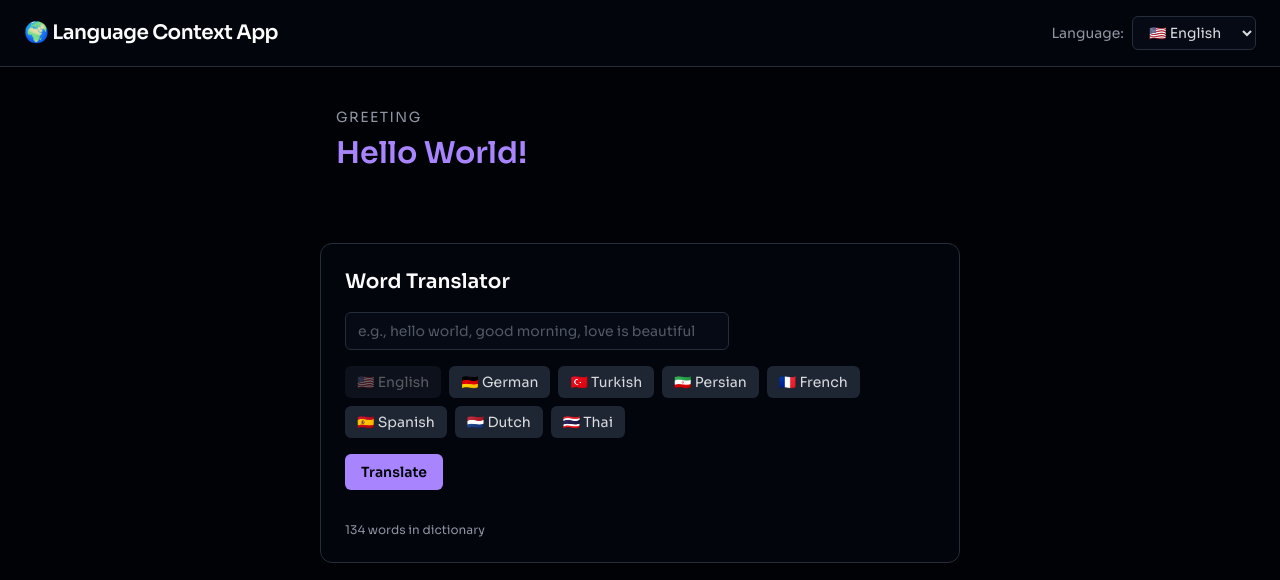
Test: switches greeting when a language button is clicked in Translator
This screenshot has width=1280, height=580.
// Click the German button in the Translator language switcher
Click the button "🇩🇪 German" at [500, 382], box [449,366,550,398]
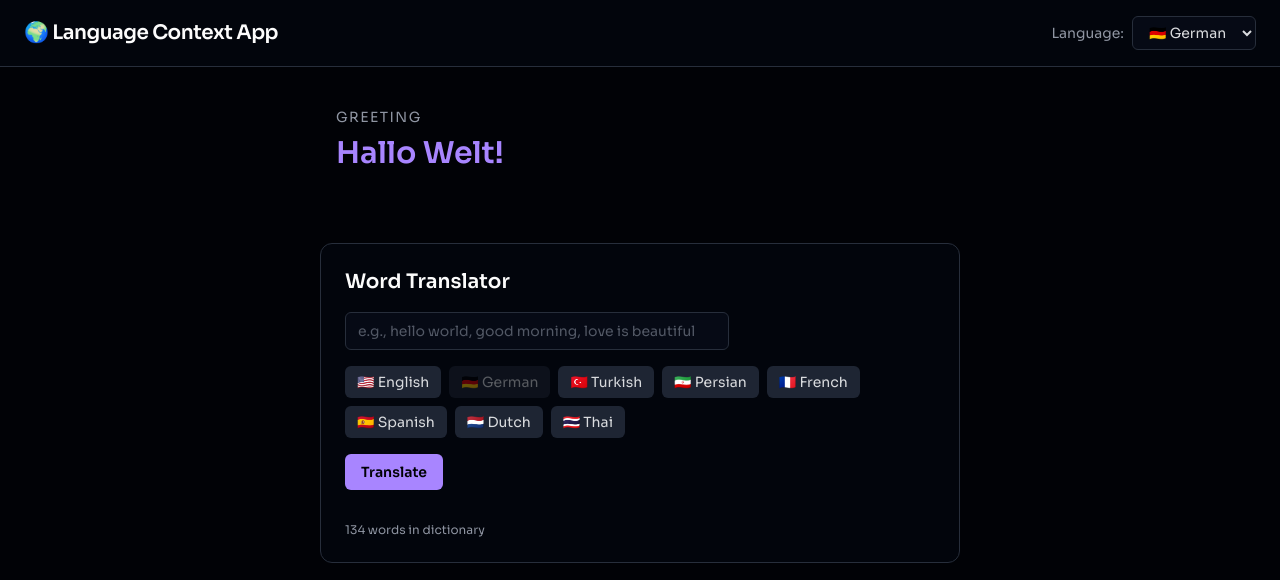
Check: the text "Hallo Welt!" is shown, box [336,134,504,172]
